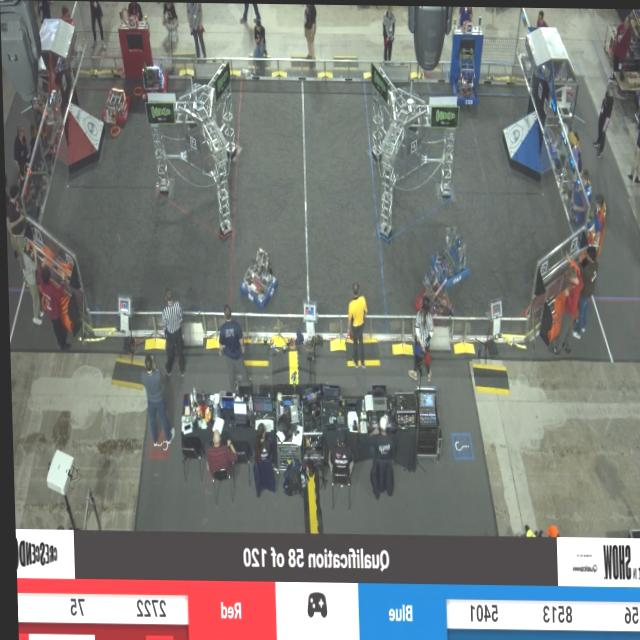Robot: (447, 33, 482, 117), (431, 216, 468, 292), (411, 260, 447, 330), (201, 255, 240, 319), (101, 81, 133, 131), (139, 53, 171, 102)
